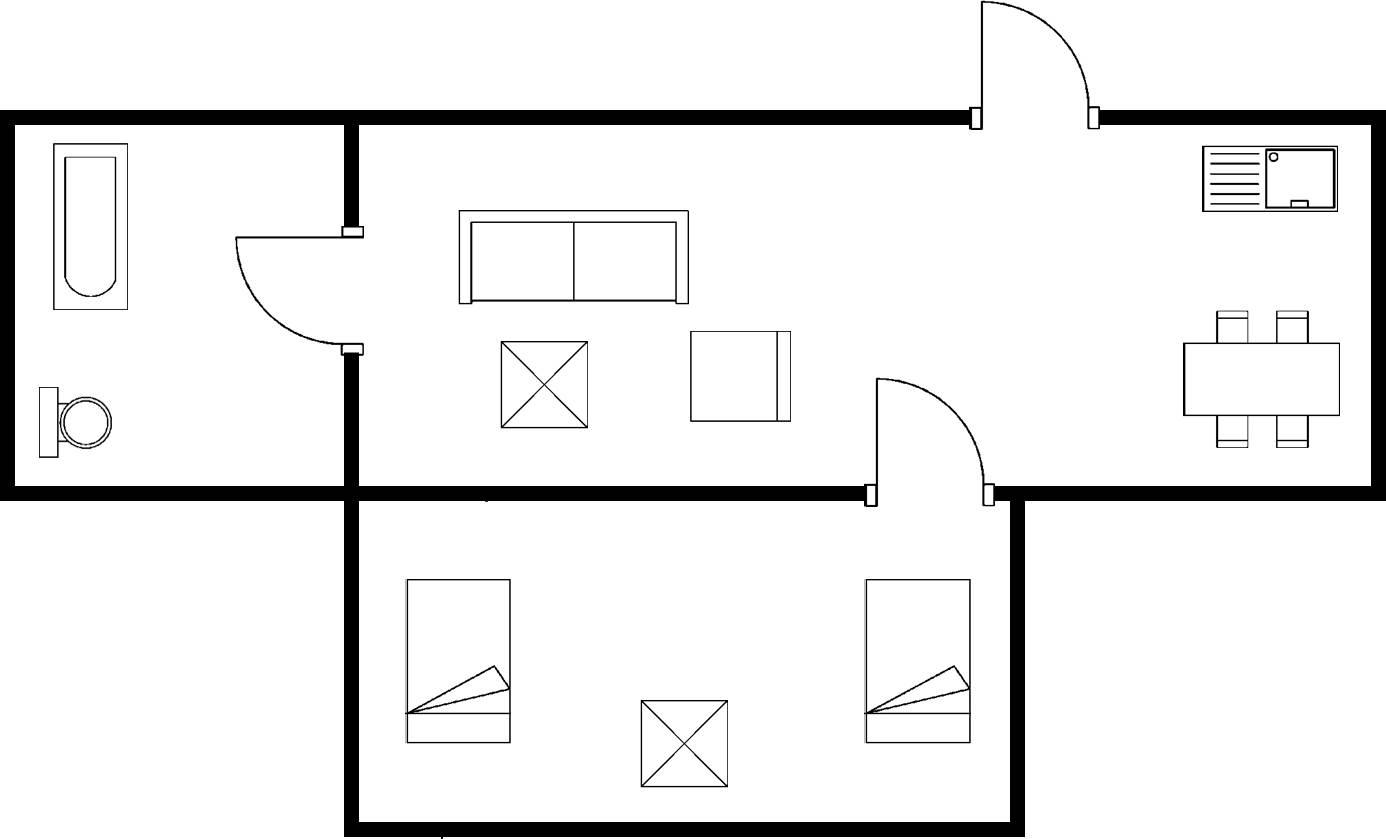bed: (859, 570, 976, 748), (400, 572, 515, 748)
dining_table: (1173, 300, 1348, 453)
sink: (1193, 138, 1343, 221)
sofa: (451, 204, 698, 311)
toilet: (32, 382, 116, 461)
tub: (47, 137, 134, 315)
